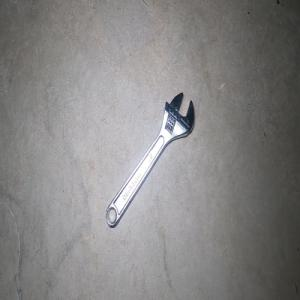Wrench: (105, 92, 194, 227)
